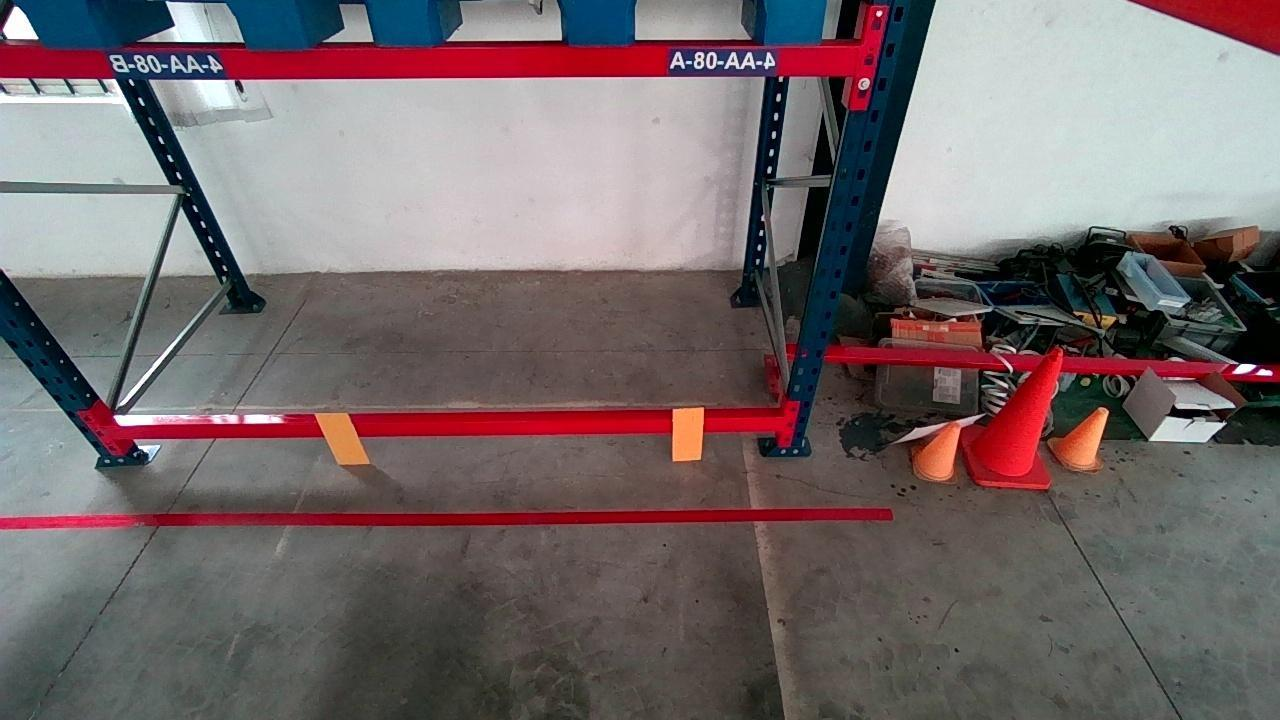h_rack: (16, 39, 857, 80), (107, 420, 780, 443)
orange_strip: (317, 411, 369, 463), (672, 405, 705, 460)
red_line: (0, 504, 892, 529)
small_pallet: (4, 0, 432, 48), (569, 0, 851, 33), (770, 0, 836, 40)
